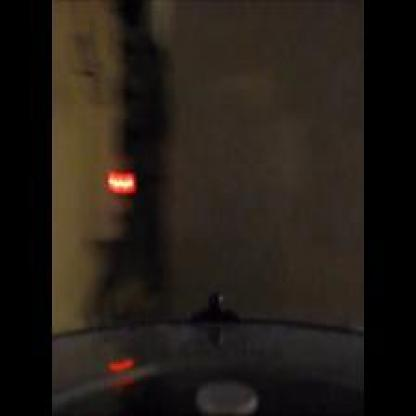other: (85, 156, 154, 205), (70, 337, 138, 378)
